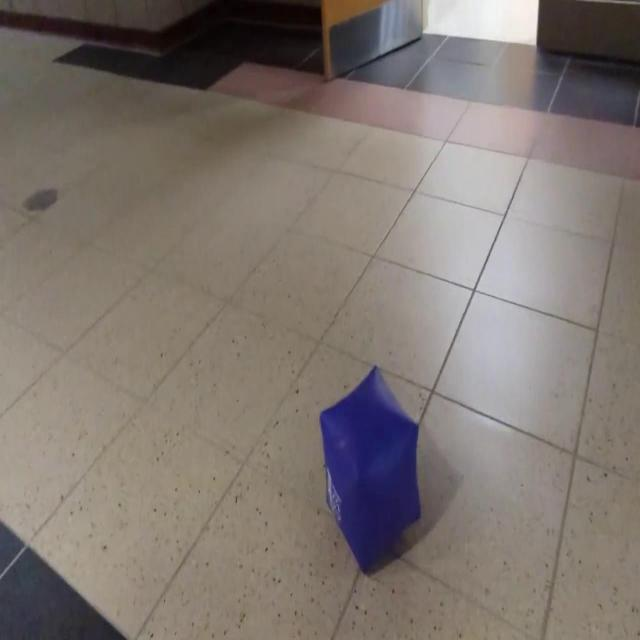frc_cube: (319, 367, 422, 577)
